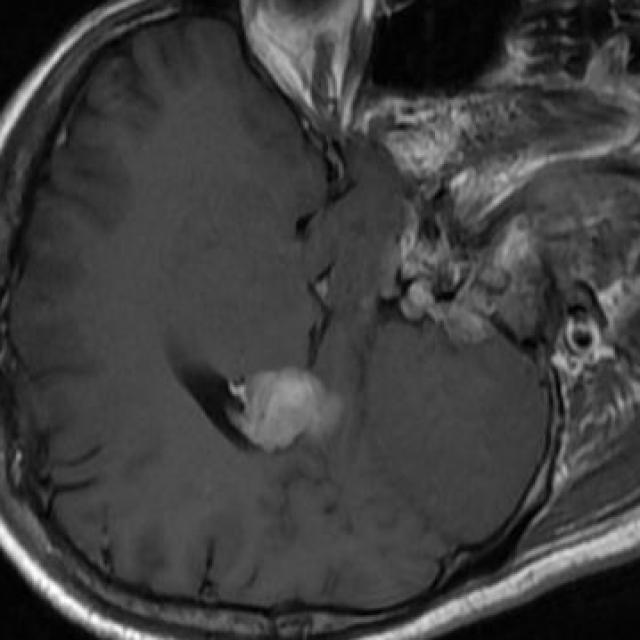meningioma: (234, 369, 346, 453)
